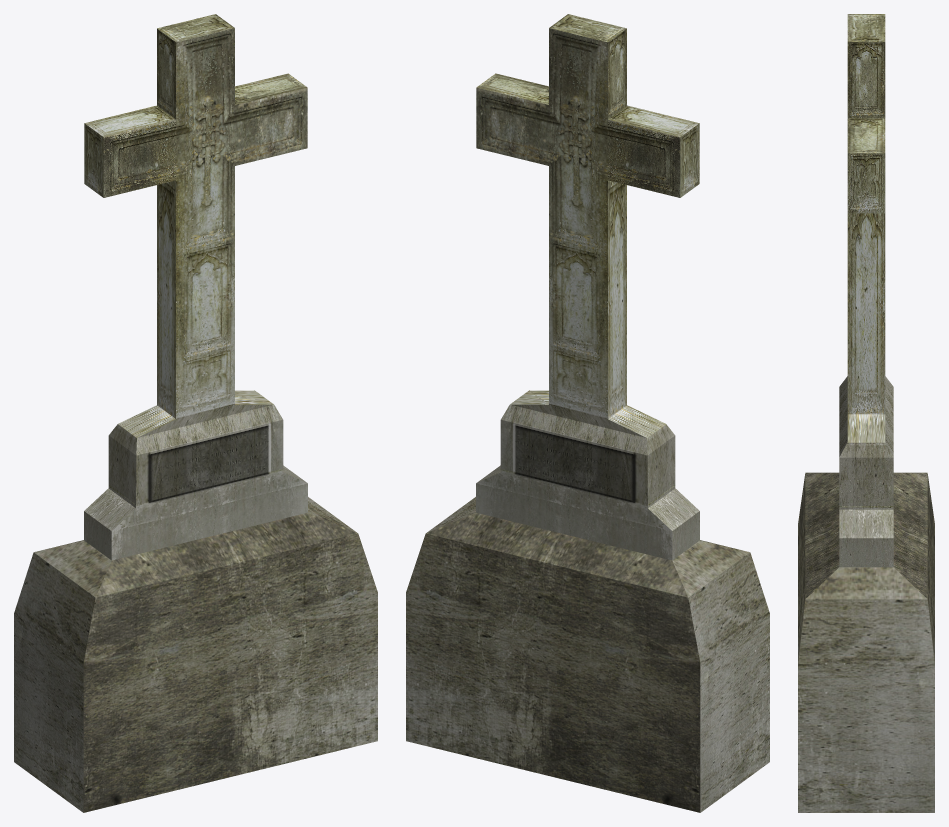
Rendered from Headstone_11.fbx.
3 renders of one model, left to right at view 1: azimuth 30°, elevation 25°; view 2: azimuth 150°, elevation 25°; view 3: azimuth 270°, elevation 25°, orthographic.
Parts seen in each view (by area): view 1: headstone; view 2: headstone; view 3: headstone.
Boxes of the visible parts, x1,y1,x2,y2 form: headstone: [14, 14, 377, 812]; headstone: [406, 14, 769, 812]; headstone: [798, 14, 934, 812].
Size of the model in its own units: 1.03 by 2.43 by 0.4219.
